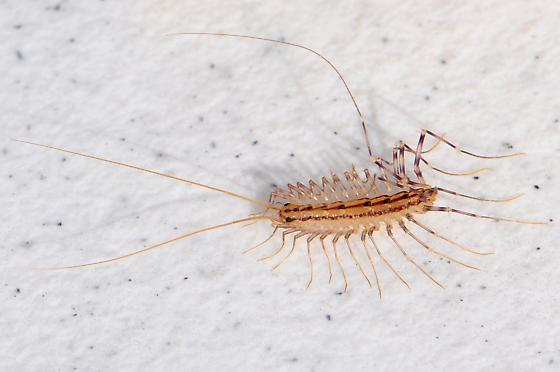centipede: (132, 122, 560, 309)
